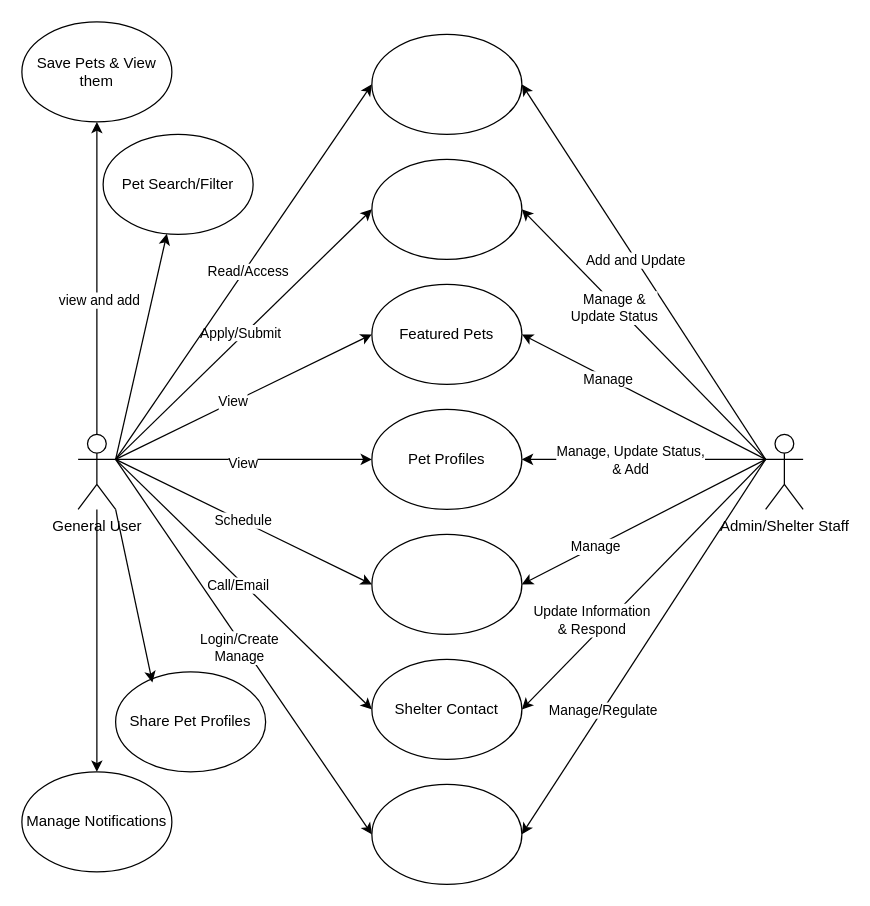
Some shapes in this 870 by 906 pixel diagram are drawn without their labels. The shapes that lost their labels are listed below. From the top down, each one's centre as x and y in pixels, then its label:
(446,83): Helpful Tips
(446,208): Online Adoption Application
(446,583): Meet-and-Greet Appointments
(446,833): Consumer Profiles
